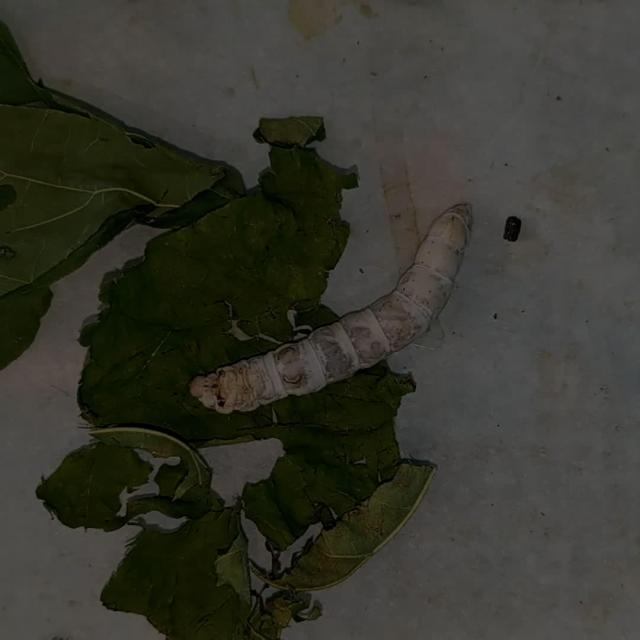Grasserie: (170, 178, 500, 468)
